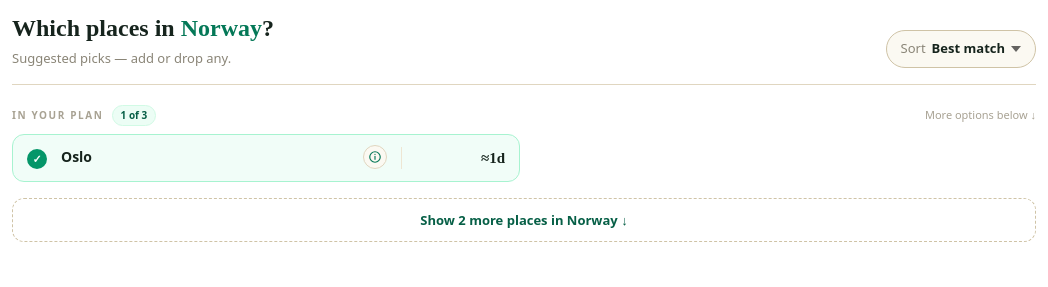
Test case: PlanPlacesStep › collapses non-included cities behind a Show-more tail and reveals them
This screenshot has width=1048, height=287.
Check: the button named "Oslo" is shown, box [13,135,519,181]
Check: the button "Bergen" is not shown
Click the button "Show 2 more places in Norway ↓": (524, 220) [12,198,1036,242]
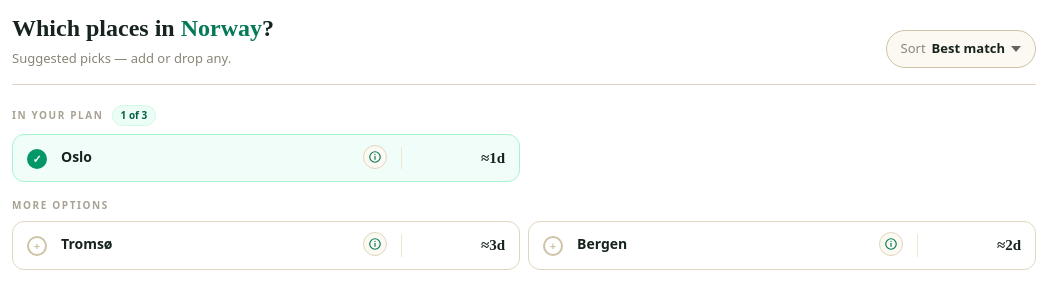
Check: the button named "Bergen" is shown, box [529,222,1035,269]
Check: the button named "Tromsø" is shown, box [13,222,519,269]
